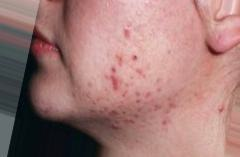Acne: (92, 24, 181, 128)
